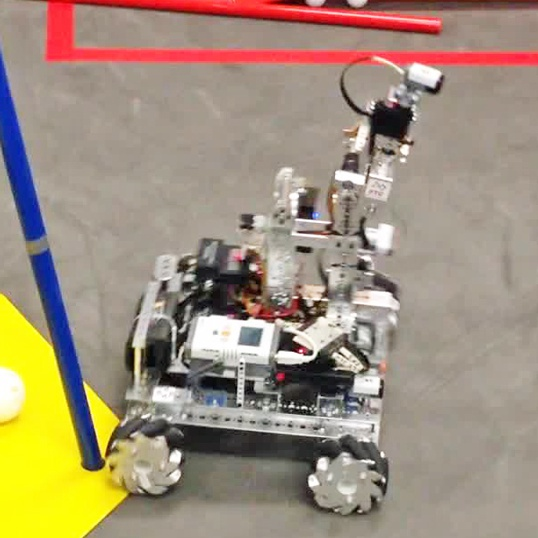robot: (100, 50, 448, 519)
